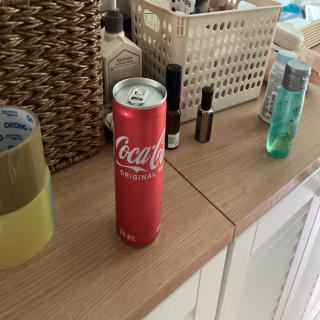cocacola: (111, 75, 166, 249)
